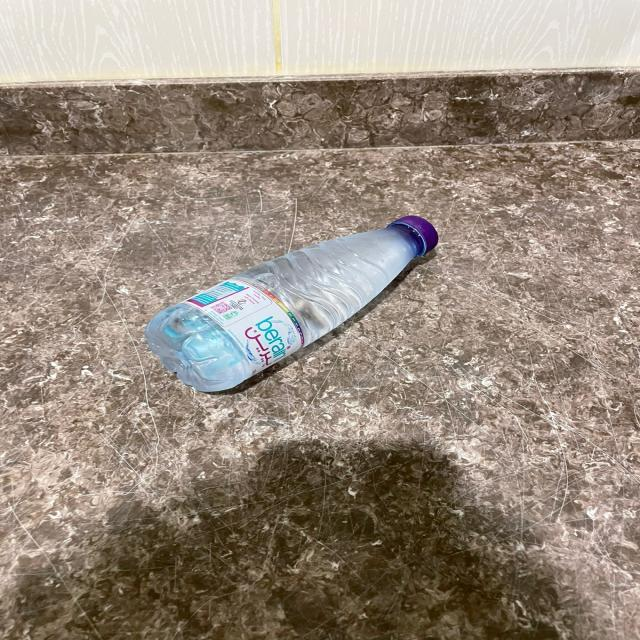chai: (145, 216, 438, 392)
